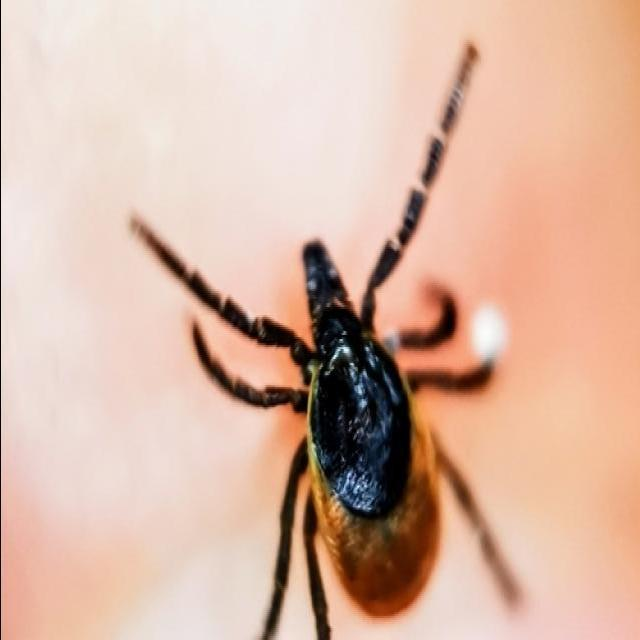Ixodes Ricinus-F: (129, 44, 477, 620)
